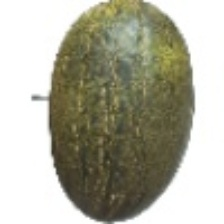honeydew: (21, 29, 212, 212)
